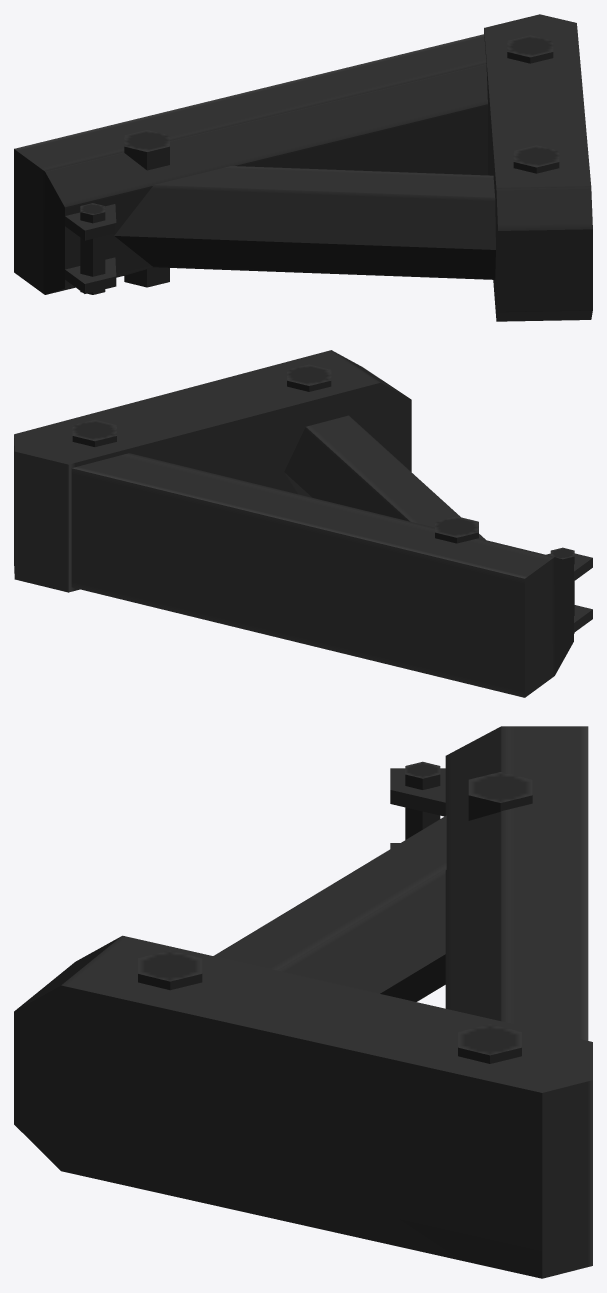
File: Grips_Angled_Base_0_Mod.FBX
3 views of the same model, one above another, from view 1: azimuth 30°, elevation 25°; view 2: azimuth 150°, elevation 25°; view 3: azimuth 270°, elevation 25° (orthographic). The views are drawn at different scales.
Visible parts, largest first — view 1: Grips_Angled_Base_0_Mod; view 2: Grips_Angled_Base_0_Mod; view 3: Grips_Angled_Base_0_Mod.
Part boxes in pixels (x1,y1,x2,y2): Grips_Angled_Base_0_Mod: [14, 14, 592, 321]; Grips_Angled_Base_0_Mod: [14, 350, 592, 697]; Grips_Angled_Base_0_Mod: [14, 726, 592, 1278].
Size of the model in its own units: 17.45 by 4.43 by 11.44.
